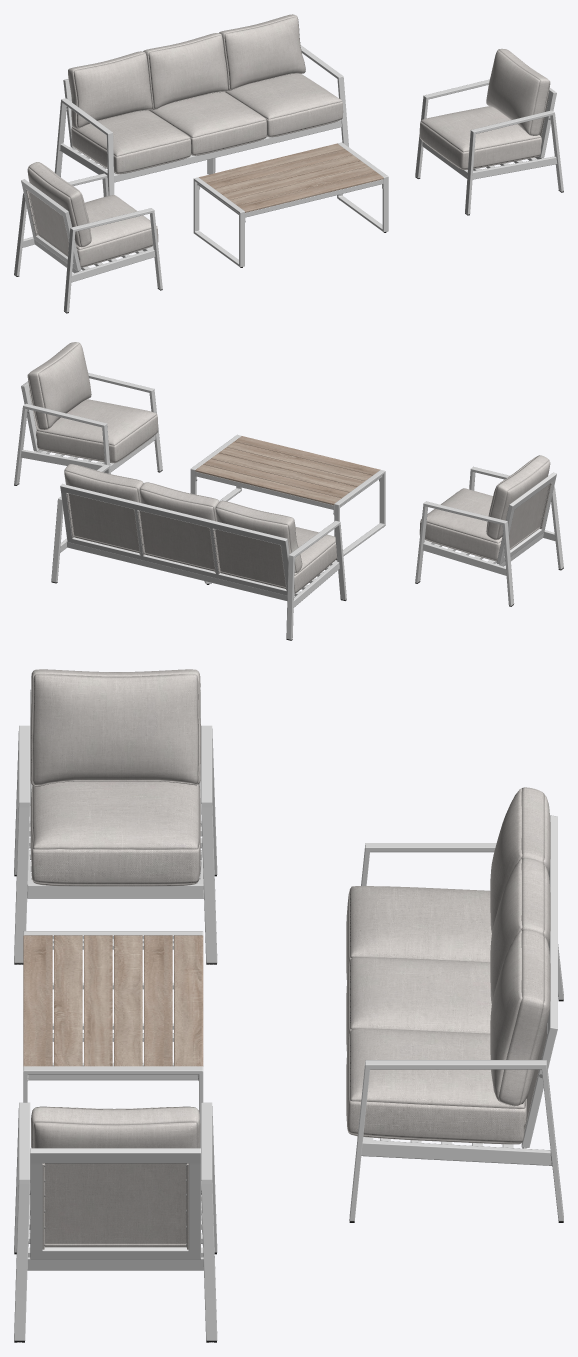
The picture shows the model from 3 angles, top to bottom: view 1: azimuth 30°, elevation 25°; view 2: azimuth 150°, elevation 25°; view 3: azimuth 270°, elevation 25°; orthographic projection. The views are drawn at different scales.
Parts seen in each view (by area): view 1: Cube.006; view 2: Cube.006; view 3: Cube.006.
Part boxes in pixels (left/top/right/bottom): Cube.006: left=14, top=14, right=563, bottom=313; Cube.006: left=14, top=342, right=563, bottom=640; Cube.006: left=14, top=669, right=563, bottom=1342.
Size of the model in its own units: 36.9 by 8.03 by 18.31.
Materials: 5 (2 with a texture image).
